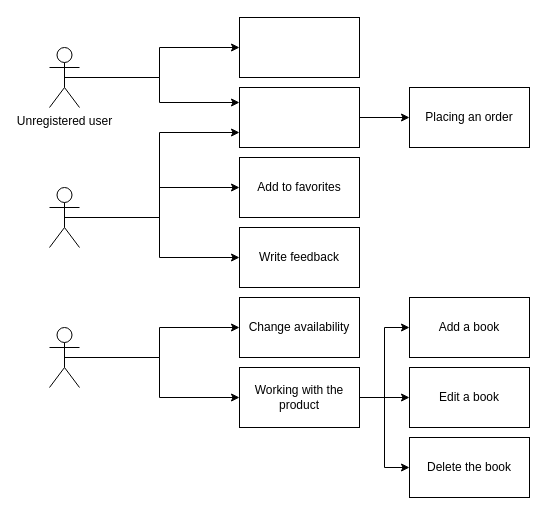
The diagram is 547 pixels wide and 515 high, and some of its shapes have lost their labels. Each missing label, with the centre of its shape:
Registered user: the point at 64,217
Registration: the point at 299,47
Search books: the point at 299,117
Seller: the point at 64,357
